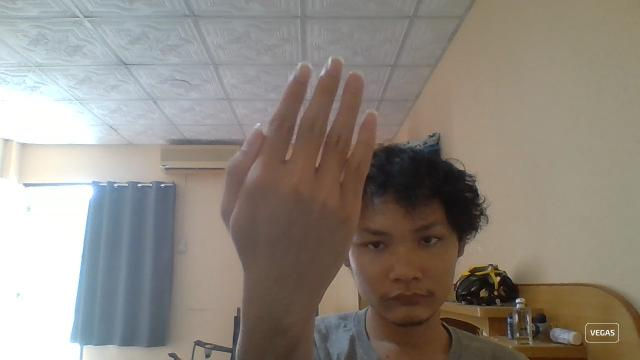backword: (218, 55, 378, 356)
